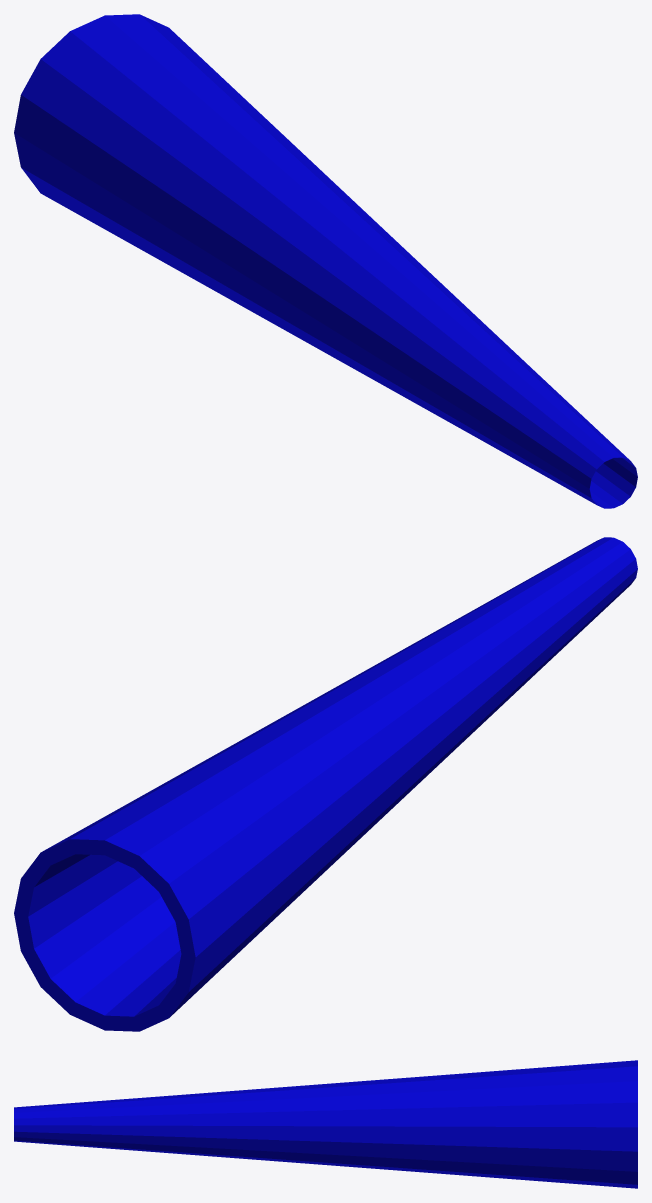
File: NozzleBCH_left.gltf
The picture shows the model from 3 angles, top to bottom: view 1: azimuth 30°, elevation 25°; view 2: azimuth 150°, elevation 25°; view 3: azimuth 270°, elevation 25°; orthographic projection. The views are drawn at different scales.
Parts seen in each view (by area): view 1: NozzleBCH_left; view 2: NozzleBCH_left; view 3: NozzleBCH_left.
Part boxes in pixels (x1,y1,x2,y2): NozzleBCH_left: [14, 14, 637, 508]; NozzleBCH_left: [14, 537, 637, 1031]; NozzleBCH_left: [14, 1060, 637, 1188].
Bounding box in the file's own units: 1020 × 1020 × 4950.
